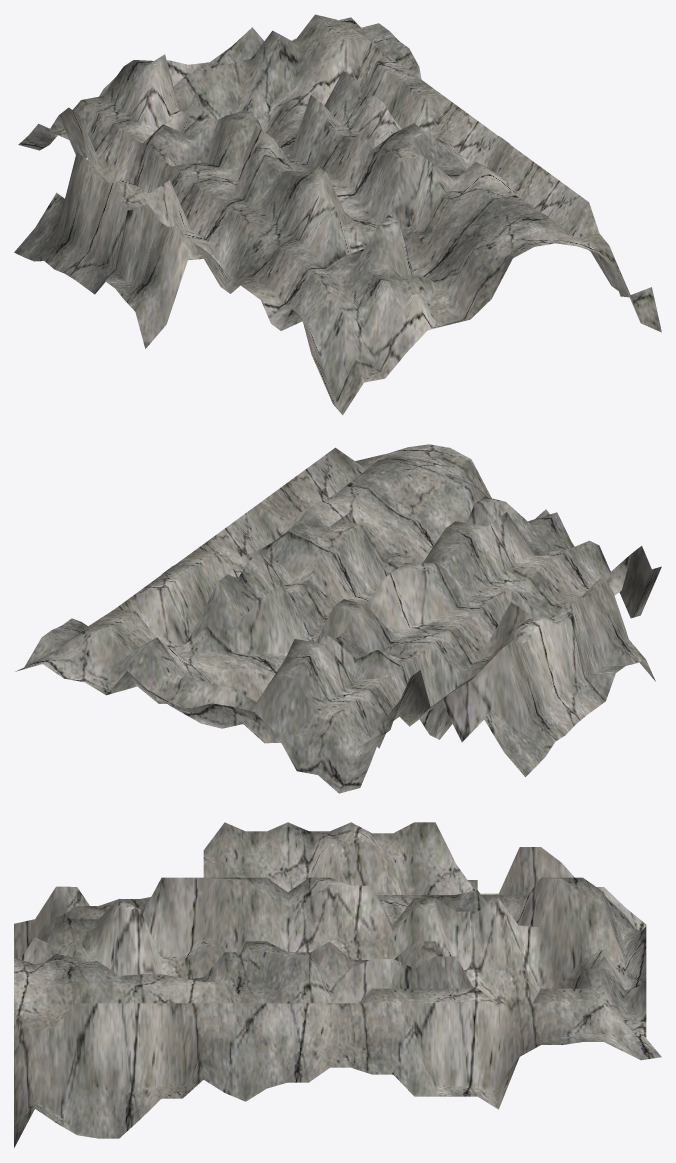
The model's file is DWARF_PALACE_ARKENSTONE_ROOM_CELLING.fbx.
The picture shows the model from 3 angles, top to bottom: view 1: azimuth 30°, elevation 25°; view 2: azimuth 150°, elevation 25°; view 3: azimuth 270°, elevation 25°; orthographic projection. The views are drawn at different scales.
Visible parts, largest first — view 1: DWARF_PALACE_ARKENSTONE_ROOM_CELLING; view 2: DWARF_PALACE_ARKENSTONE_ROOM_CELLING; view 3: DWARF_PALACE_ARKENSTONE_ROOM_CELLING.
Part boxes in pixels (x1,y1,x2,y2): DWARF_PALACE_ARKENSTONE_ROOM_CELLING: (14, 14, 661, 415); DWARF_PALACE_ARKENSTONE_ROOM_CELLING: (15, 444, 661, 793); DWARF_PALACE_ARKENSTONE_ROOM_CELLING: (14, 822, 661, 1147).
Bounding box in the file's own units: 378718 × 125975 × 479030.
Materials: 1 (1 with a texture image).
